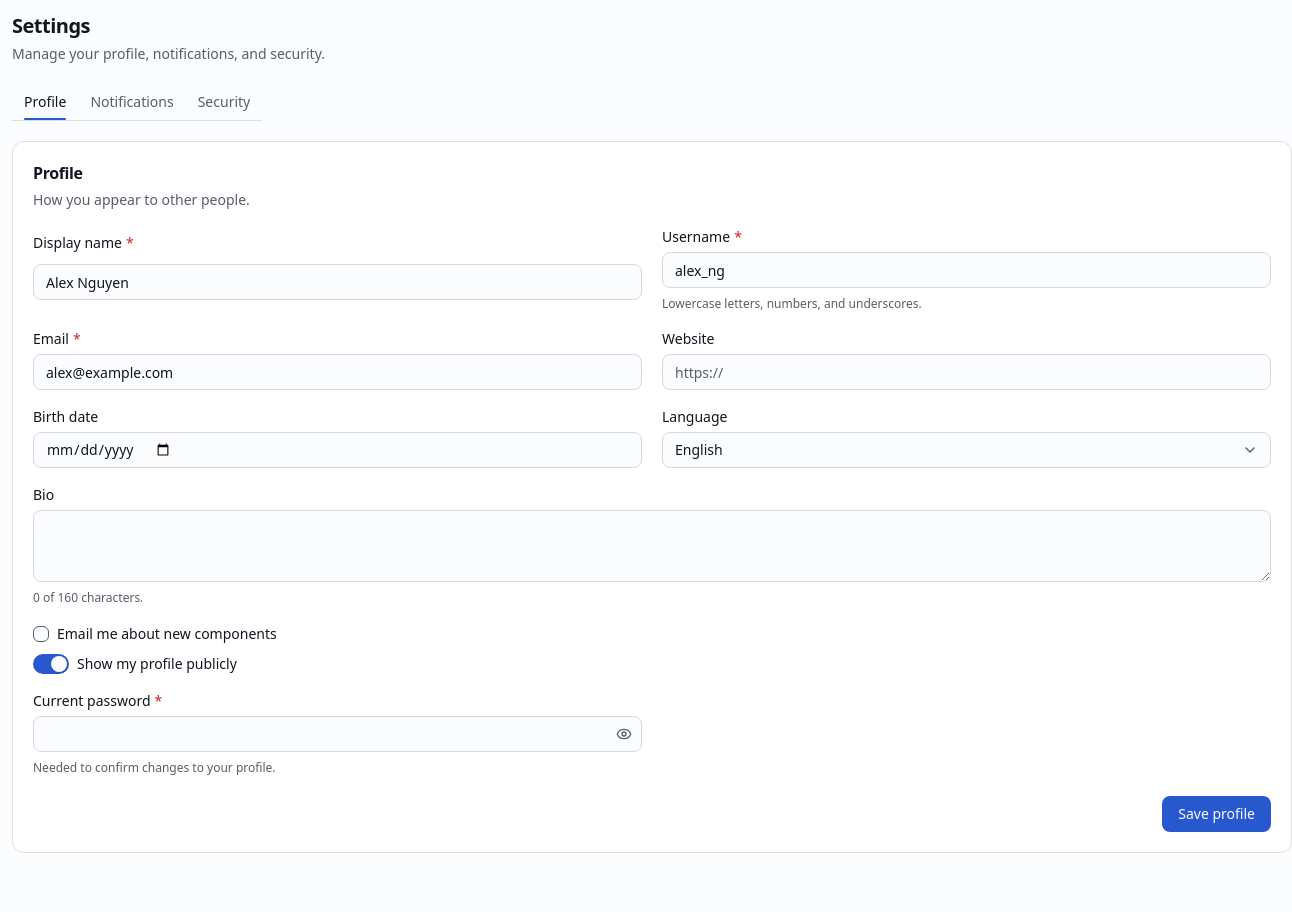
Test case: UserProfileSettings › notifications › saves the changed switches and announces success
Click the tab "Notifications" at (132, 102), box [78, 84, 186, 120]
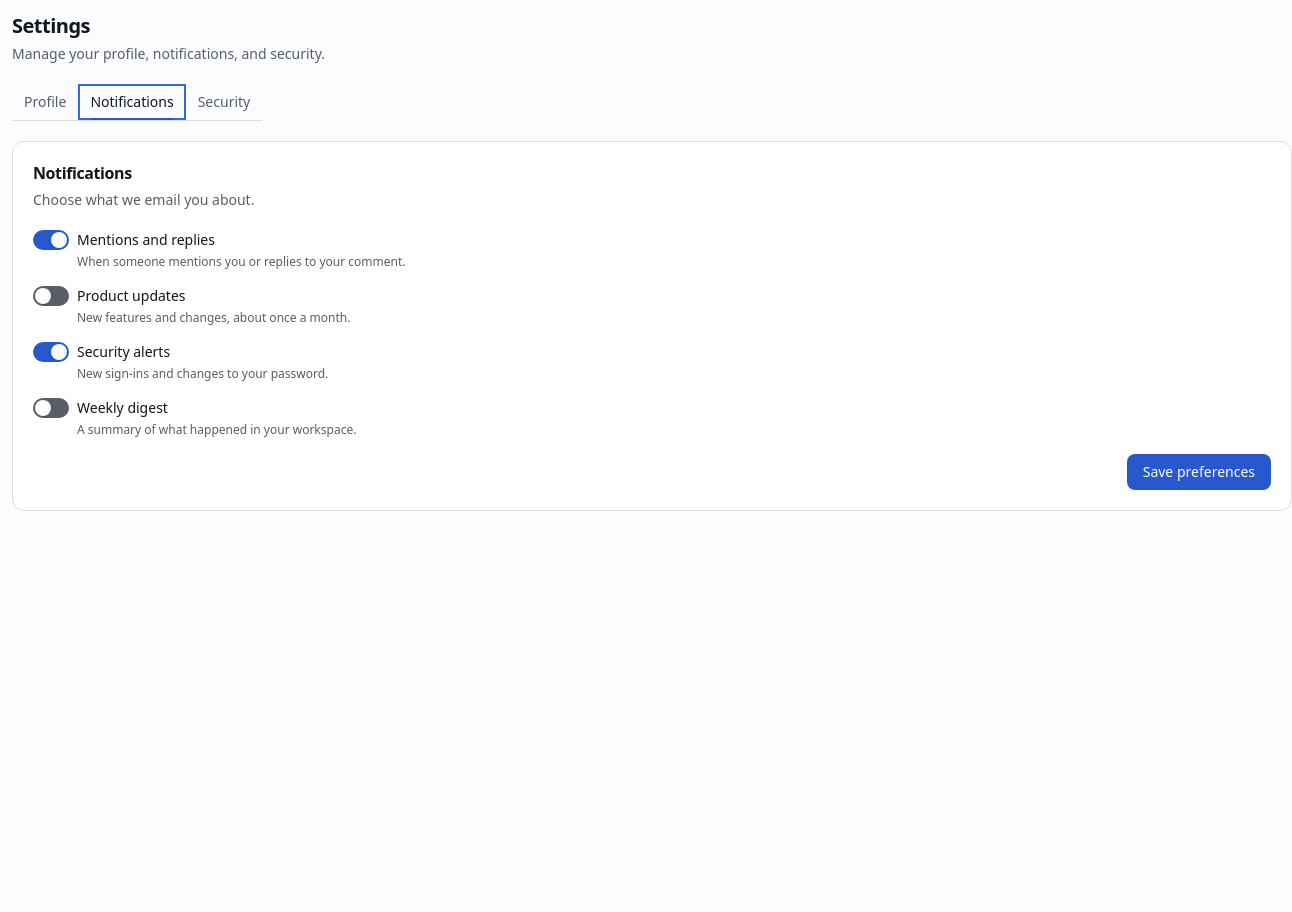
Click the switch named "Weekly digest" next to "Weekly digest" at (51, 408), box [33, 398, 69, 418]
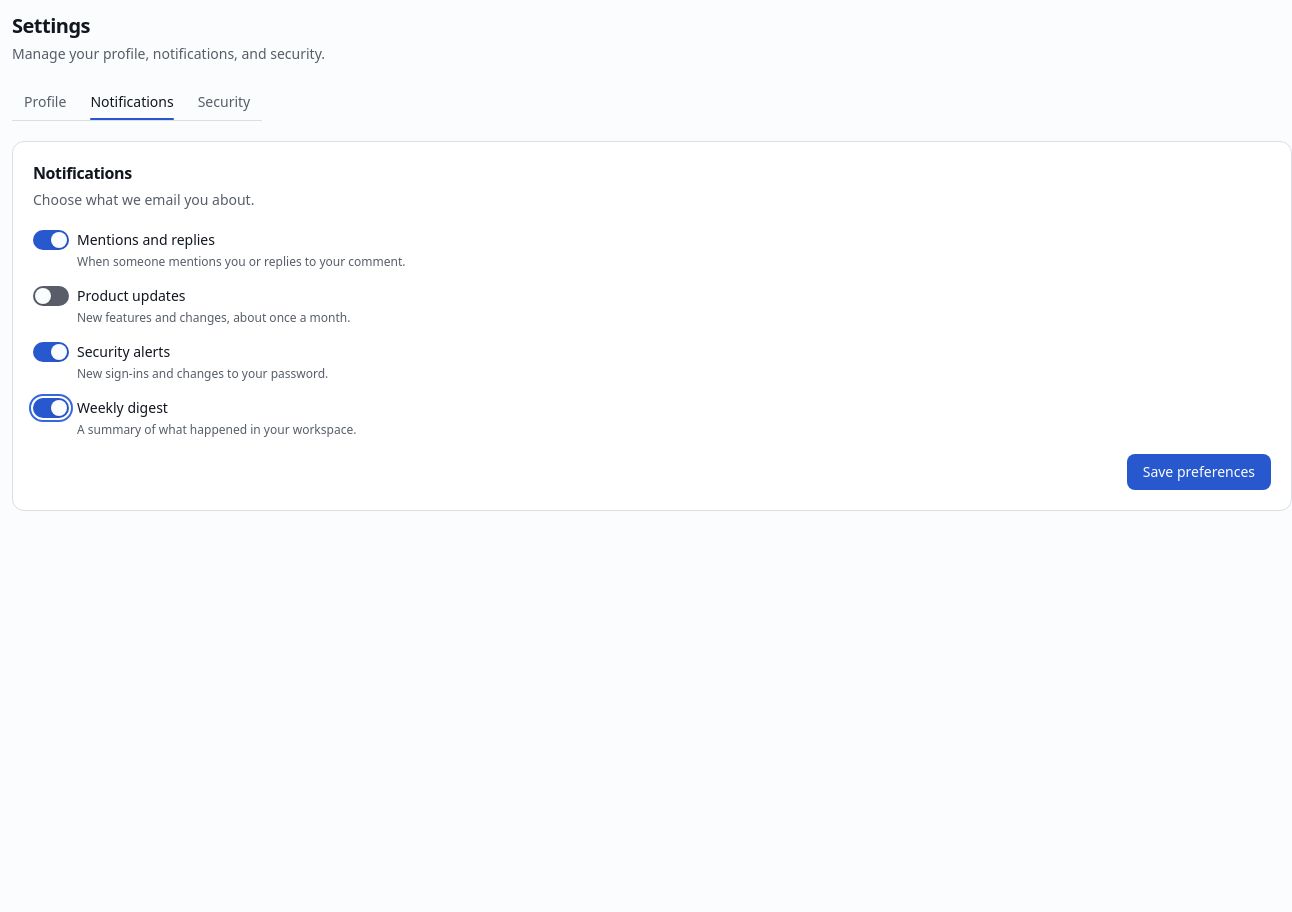
Click the switch named "Mentions and replies" next to "Mentions and replies" at (51, 240), box [33, 230, 69, 250]
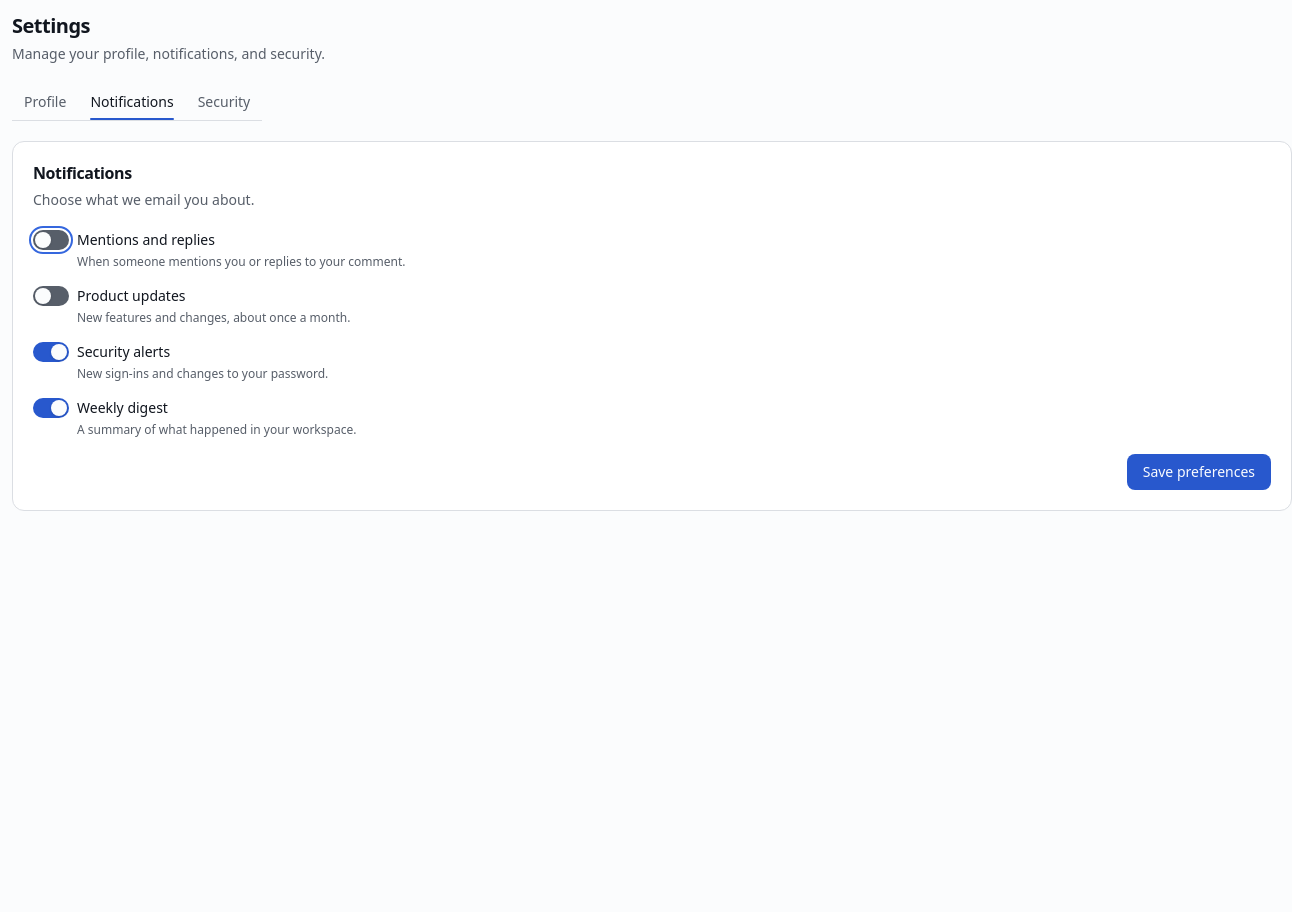
Click the button "Save preferences" at (1199, 472), box [1127, 454, 1271, 490]
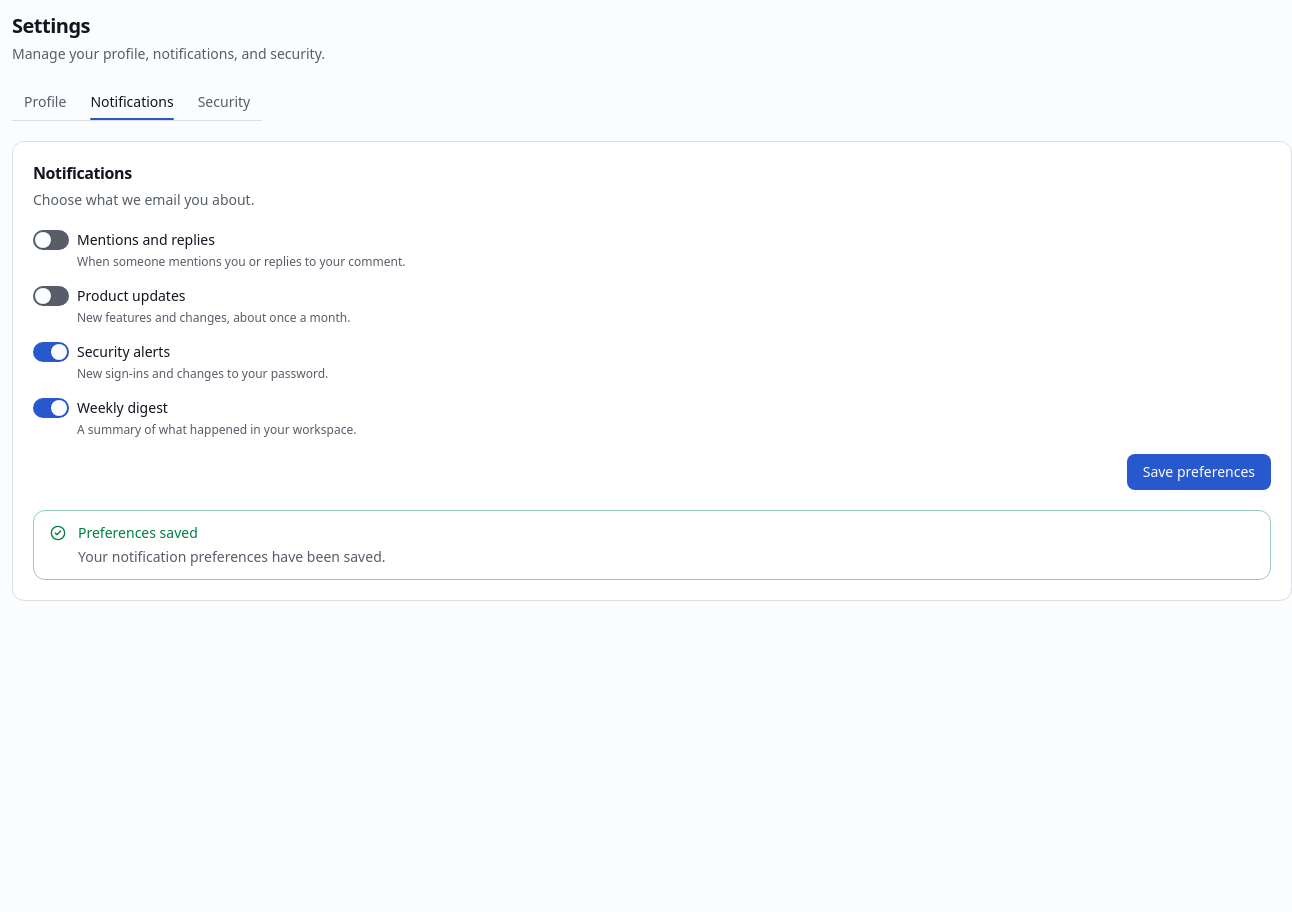
Check: the message shows "Preferences saved", box [78, 523, 198, 542]
Check: the message shows "Your notification preferences have been saved.", box [78, 547, 386, 566]
